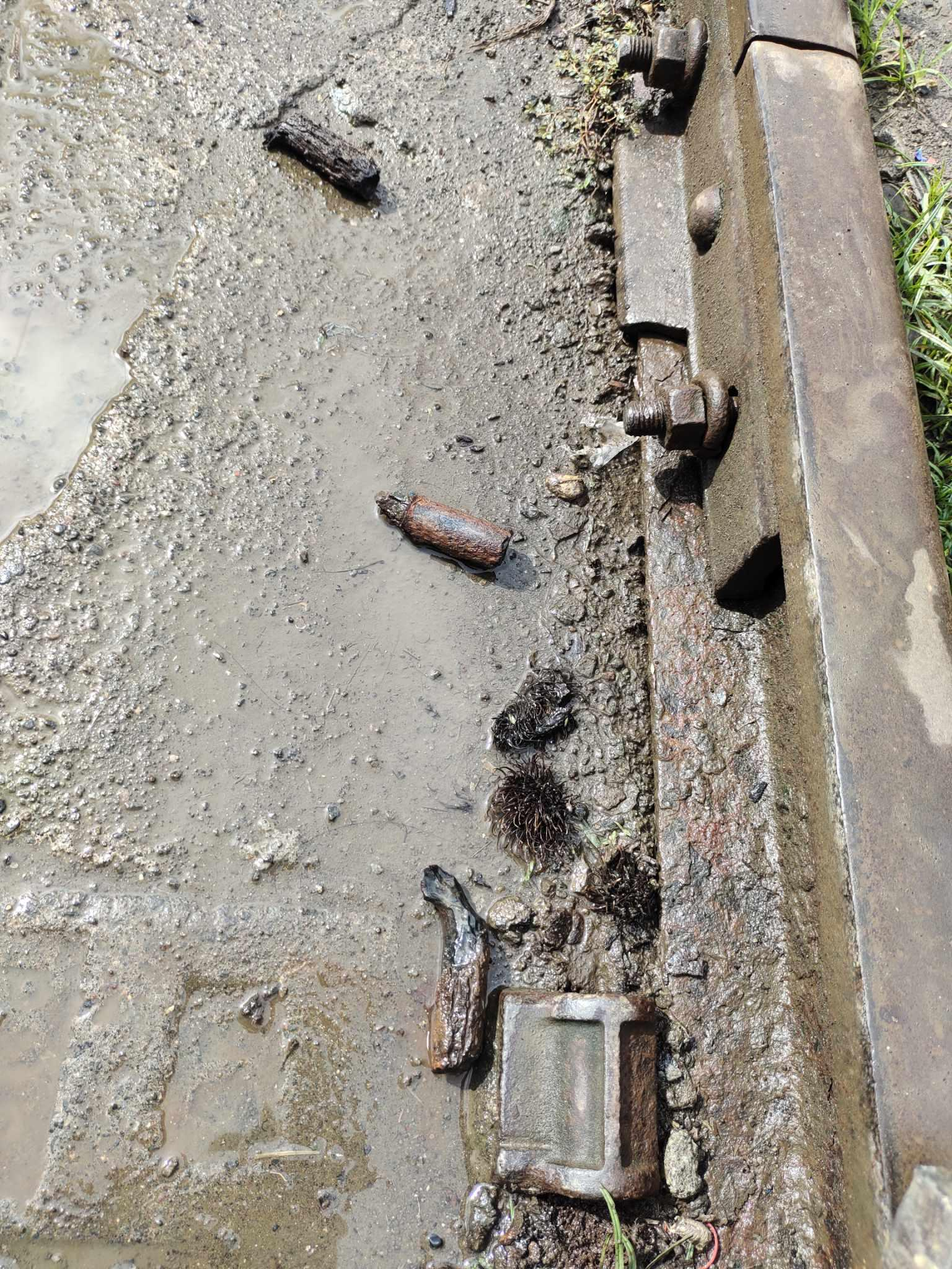railway-gap: (672, 0, 912, 114)
